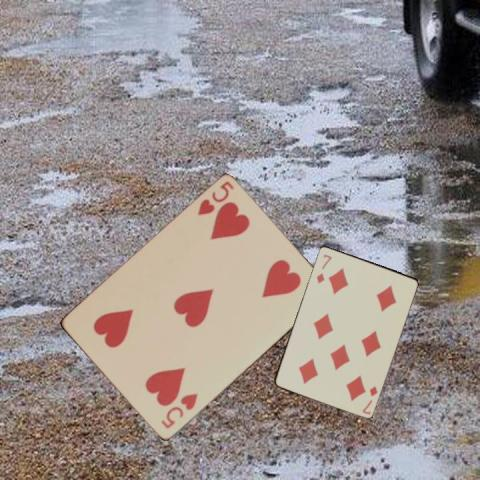5h: (158, 390, 199, 431), (195, 178, 235, 217)
7d: (313, 251, 333, 285), (359, 383, 379, 415)
